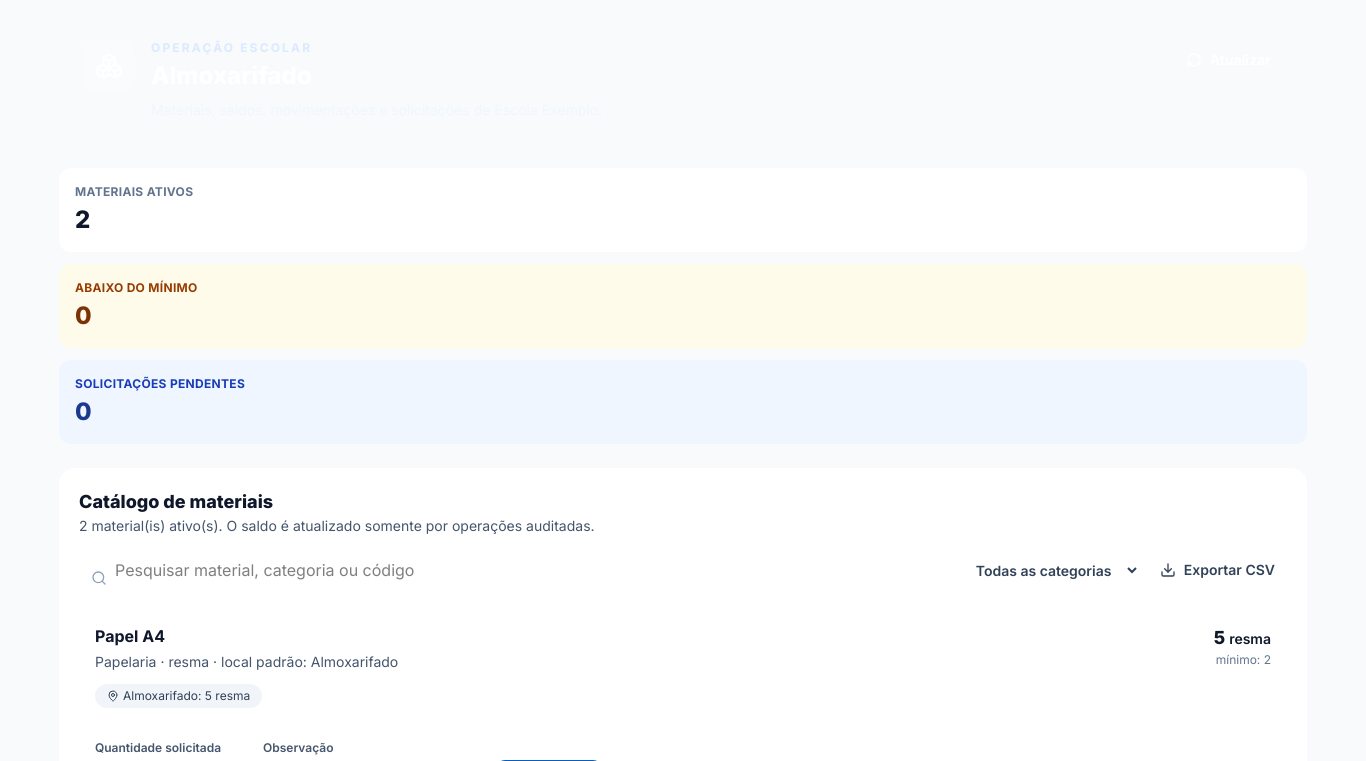
Test: InventoryPage › filtra materiais por categoria sem alterar os dados do catálogo
Expected: the heading "Papel A4" is shown, [95,626,165,646]
Step 1. Select "Artes" in the dropdown named "Filtrar por categoria" → point(1050, 570), box [960,548,1140,592]
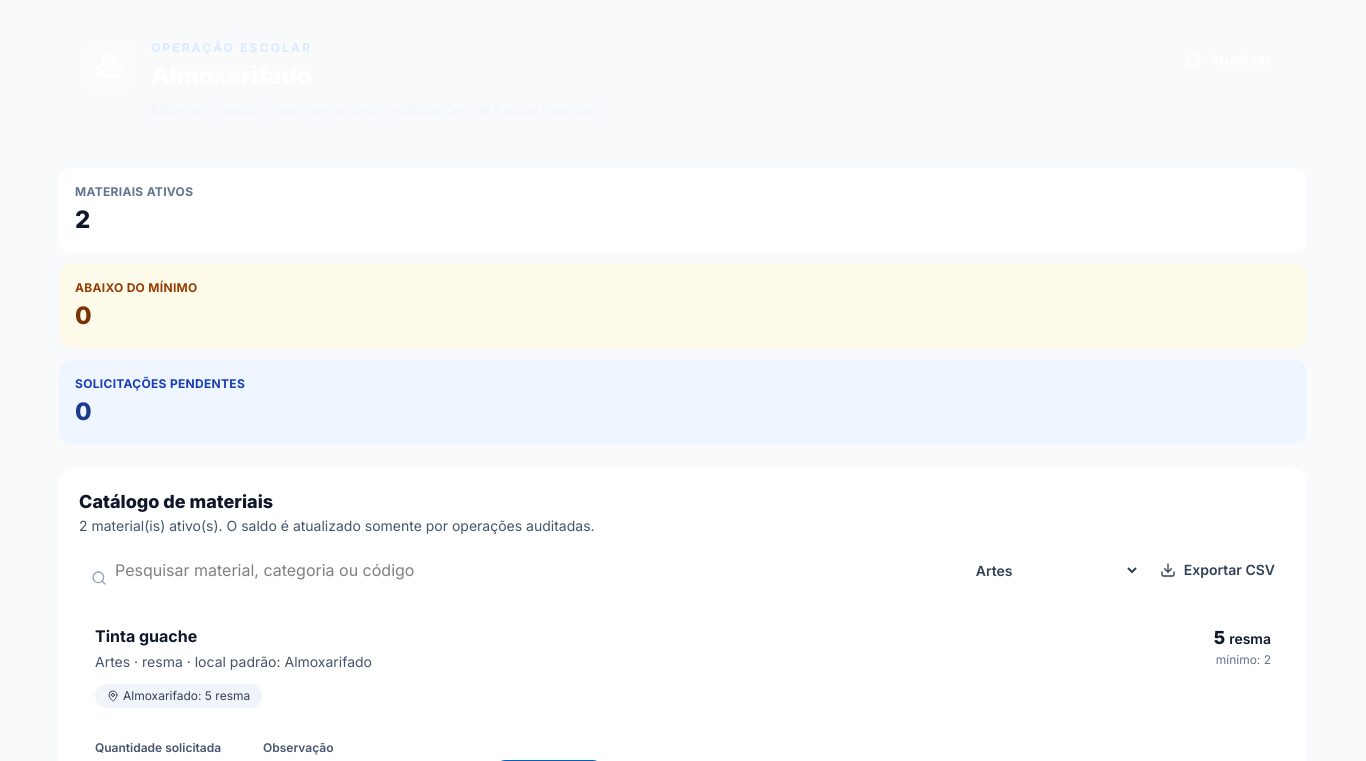
Expected: the heading "Tinta guache" is shown, [95,626,197,646]
Expected: the heading "Papel A4" is gone
